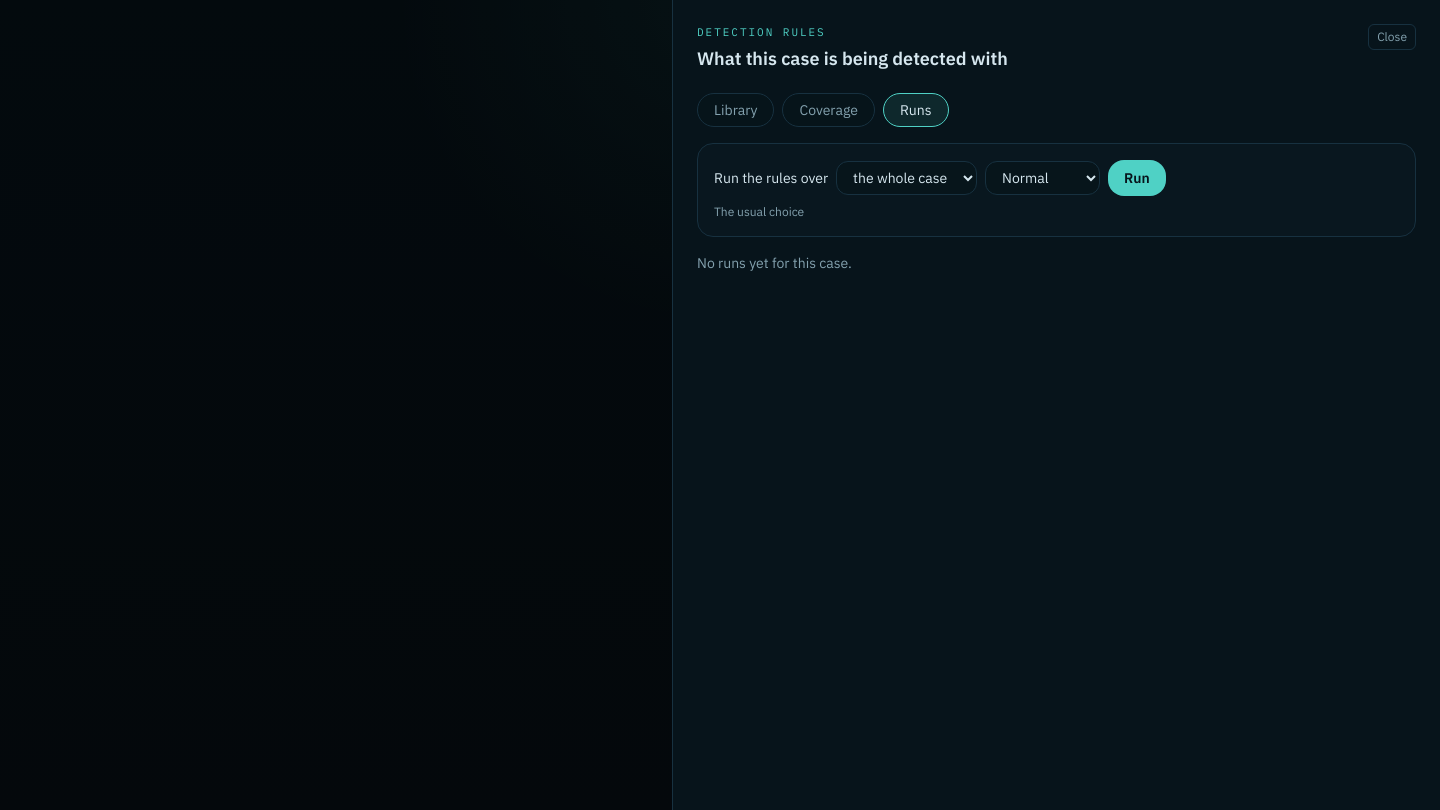
Test: DetectionRulesPanel › says how many rules will actually run rather than just 'queued'
Click the button with test id "rules-panel-run" at (1137, 178), box [1108, 160, 1166, 196]
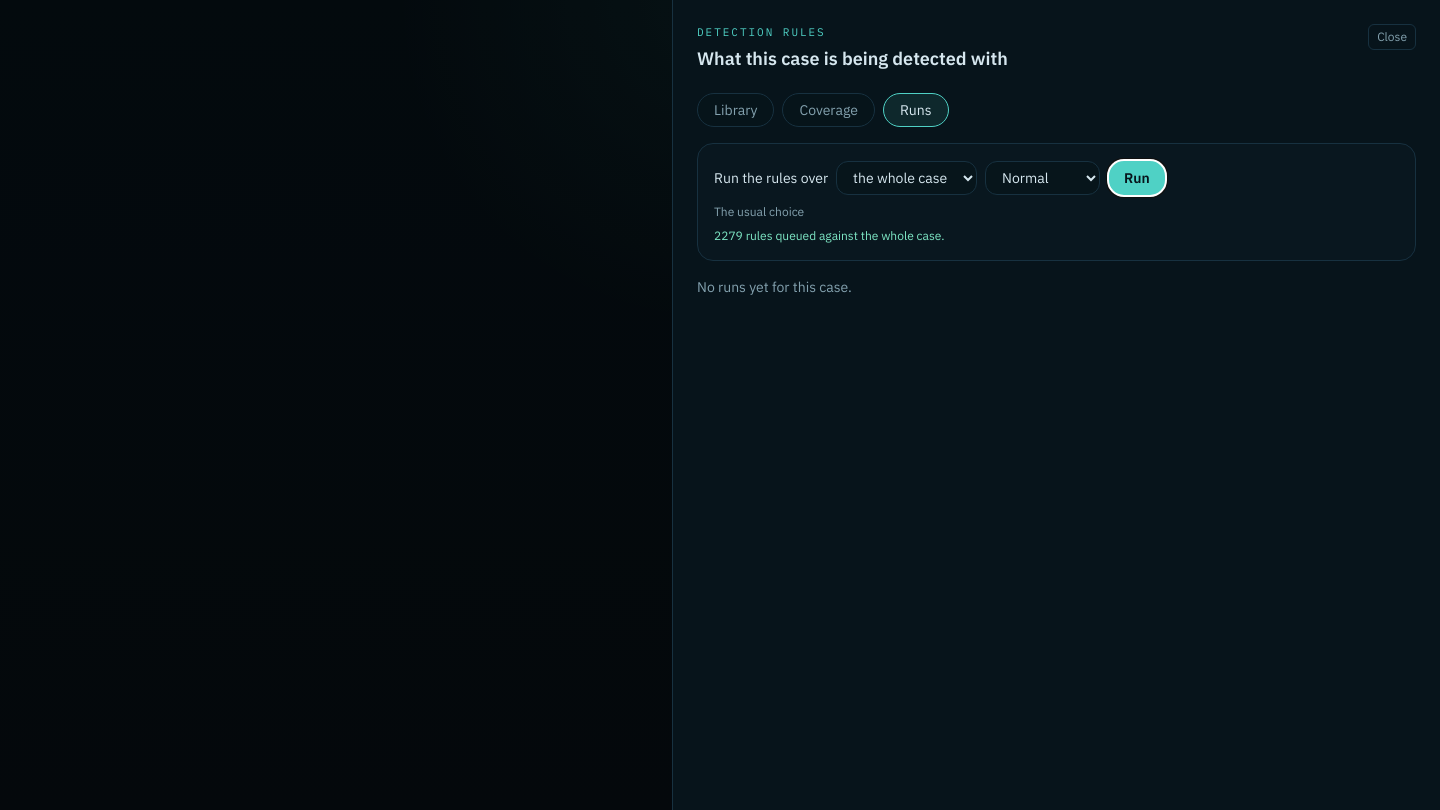
Check: the text with test id "rules-panel-run-message" shows "2279", box [714, 228, 944, 242]
